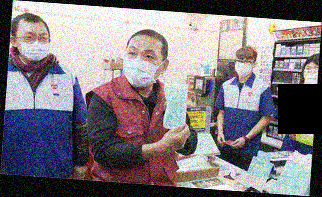with_mask: (121, 45, 161, 90), (18, 30, 52, 63), (234, 59, 253, 79), (303, 65, 319, 82)
